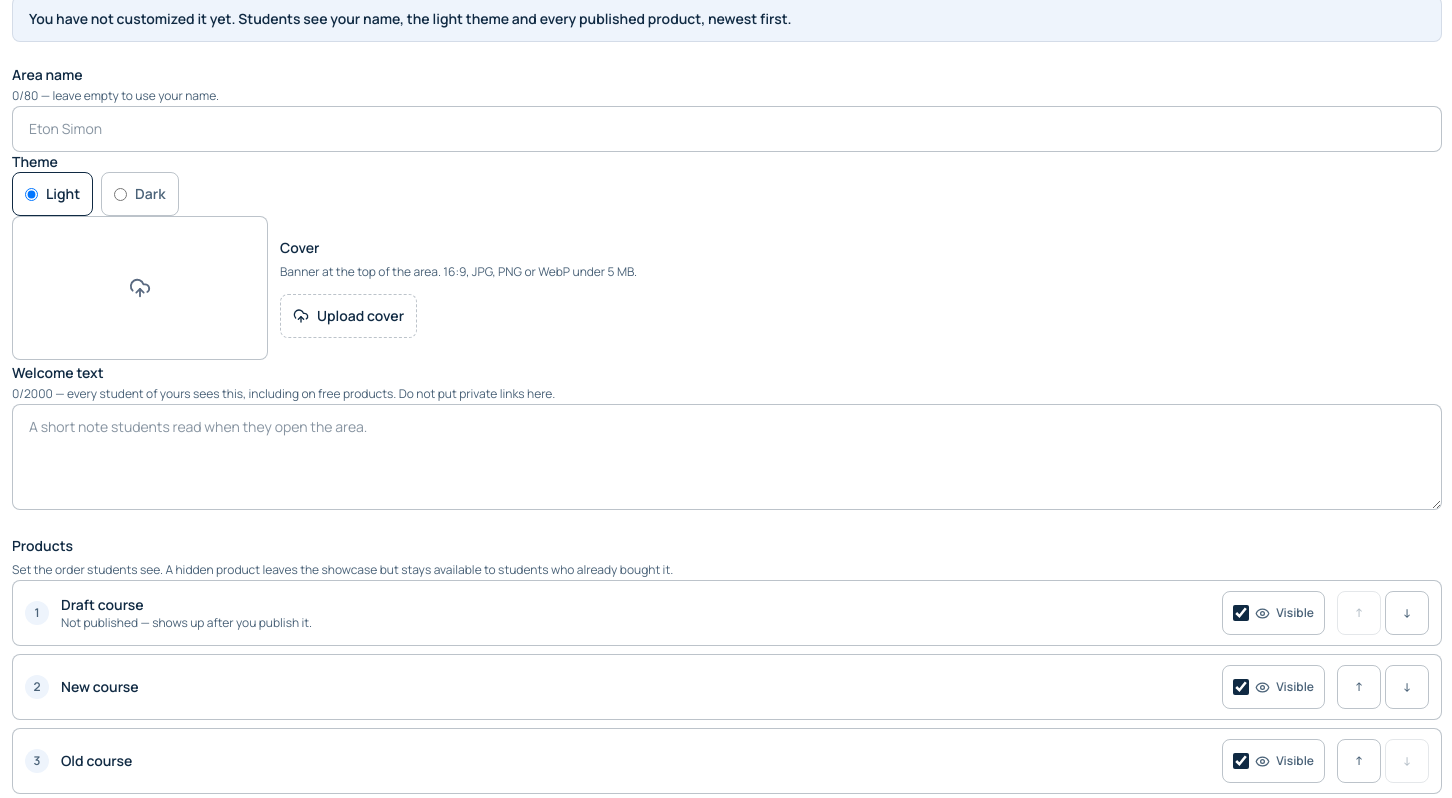
Test: MemberAreaSettingsPanel › salva nome, tema, boas-vindas, a ordem arrumada e quem ficou oculto
Expected: the list is shown, x1=12 y1=580 x2=1442 y2=794
Type "Eton Academy" into the field labelled "Area name" at (727, 129), box x1=12 y1=106 x2=1442 y2=152
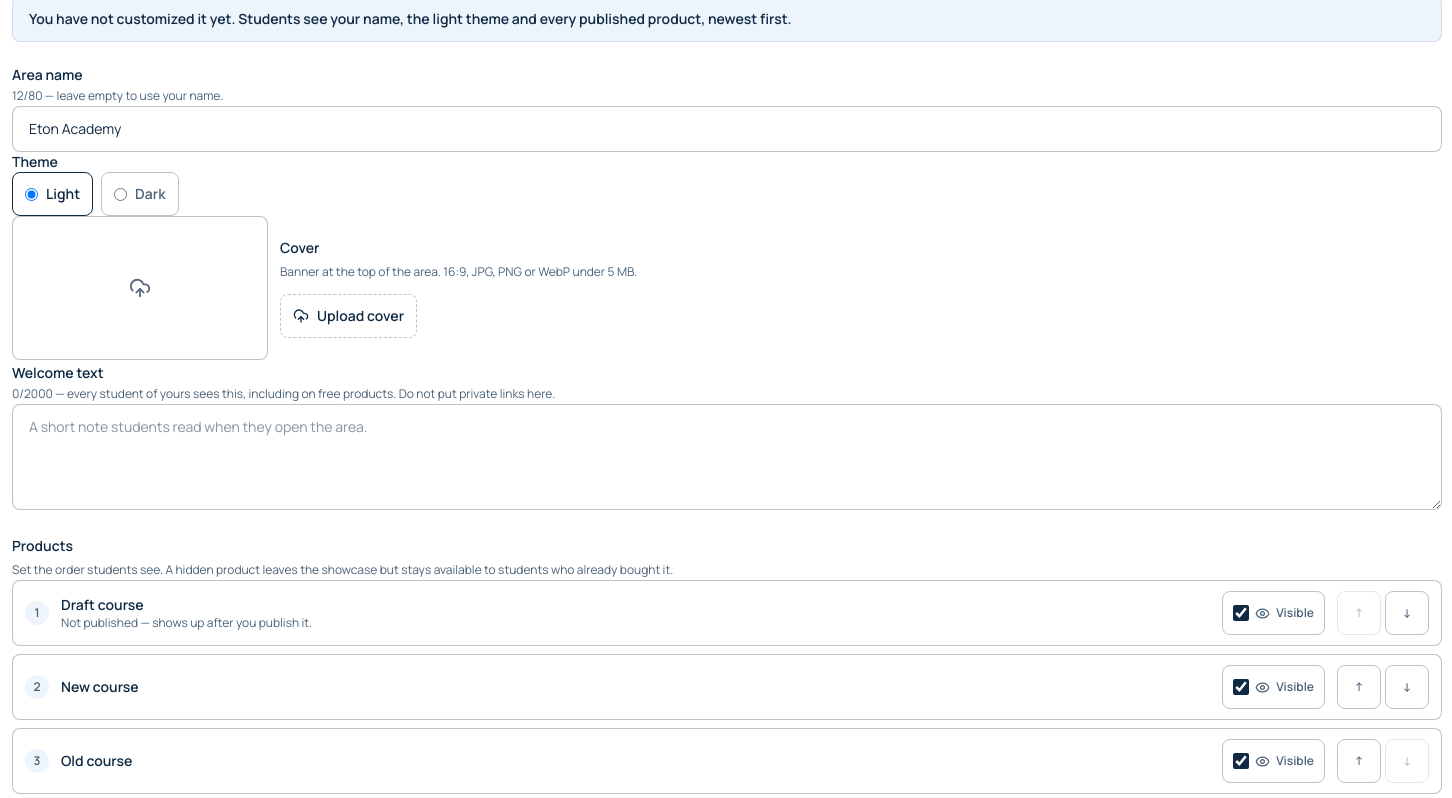
Click the radio button labelled "Dark" at (121, 194), box x1=114 y1=188 x2=127 y2=200
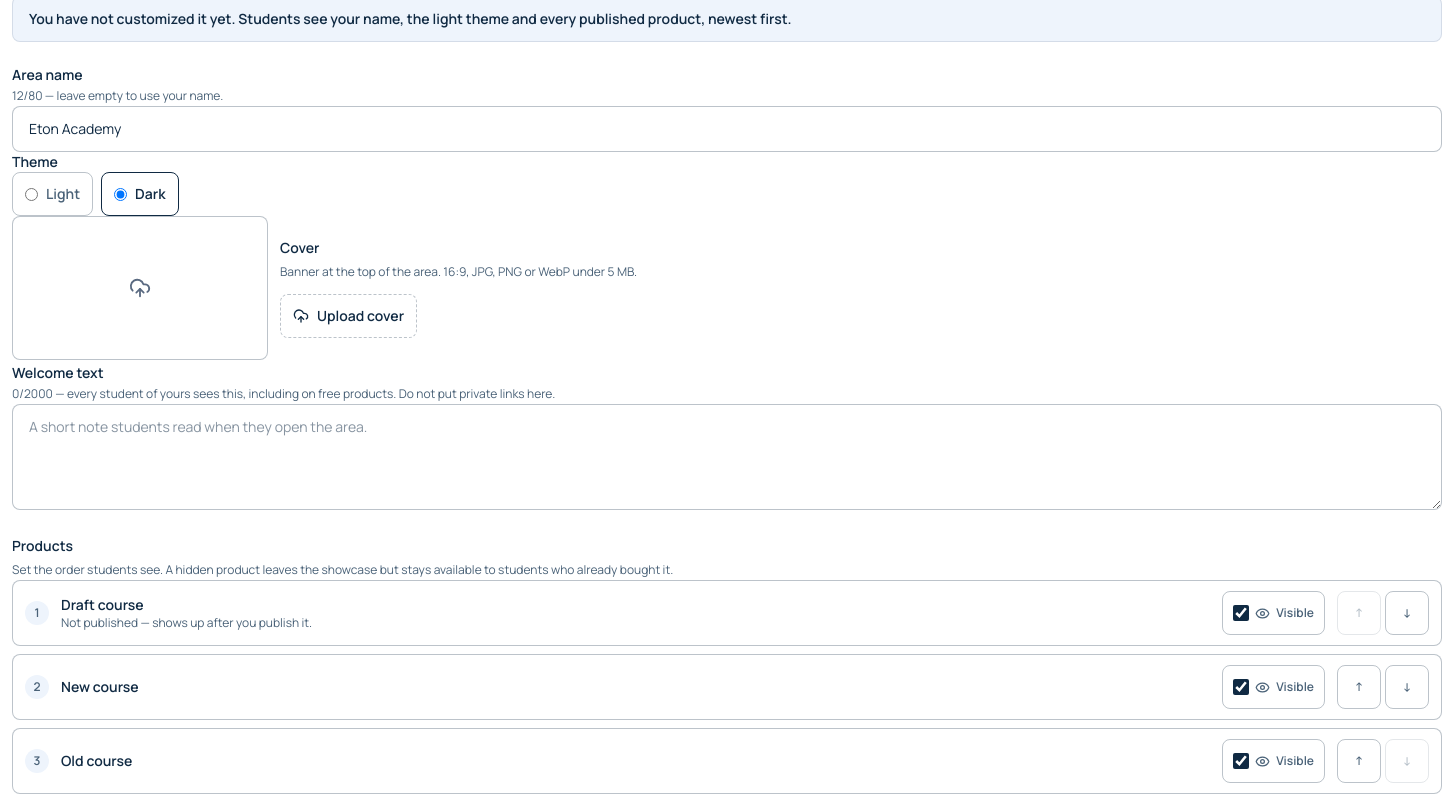
Type "Welcome!" into the text box labelled "Welcome text" at (727, 457), box x1=12 y1=404 x2=1442 y2=510
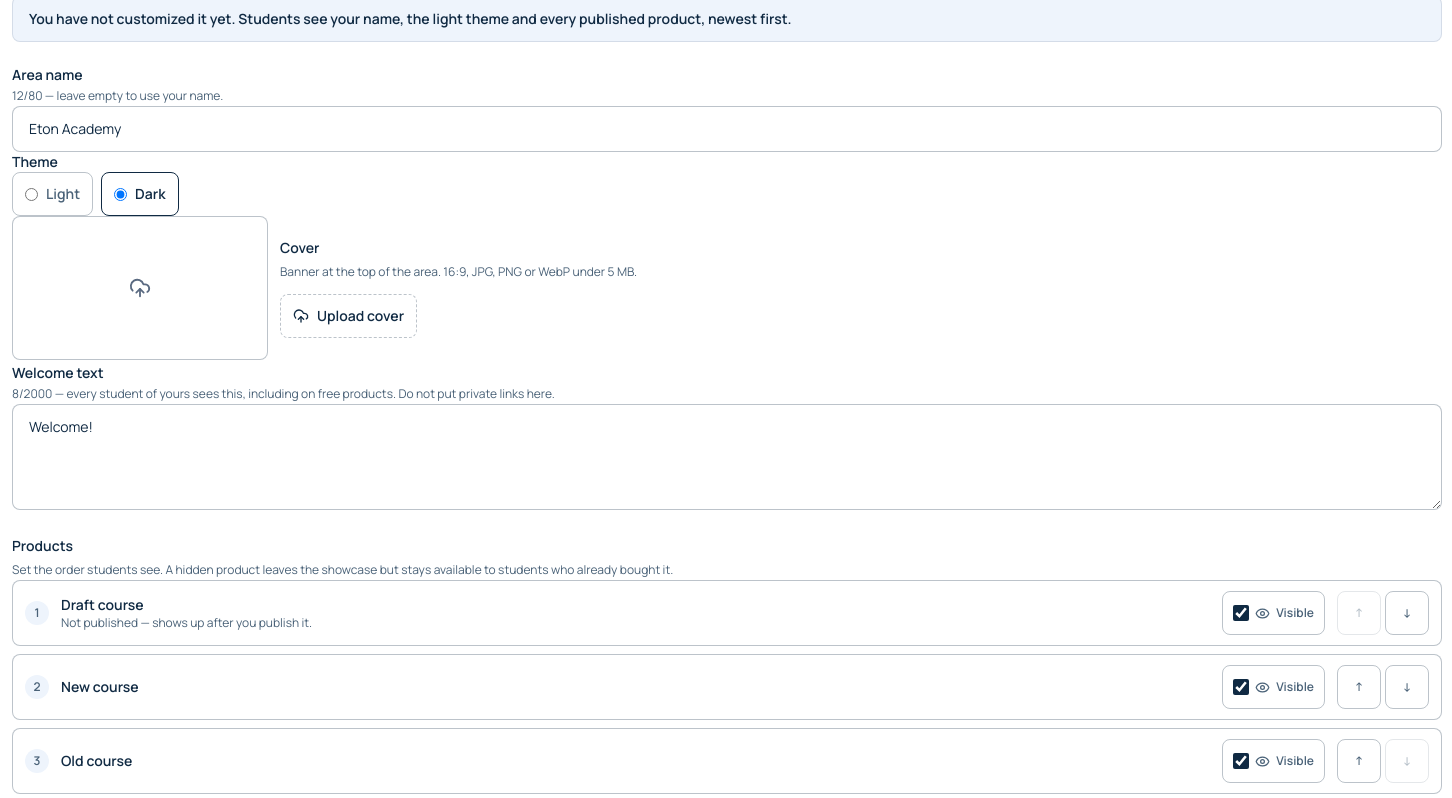
Click the button named "Move Old course up" at (1359, 761), box x1=1337 y1=739 x2=1381 y2=783
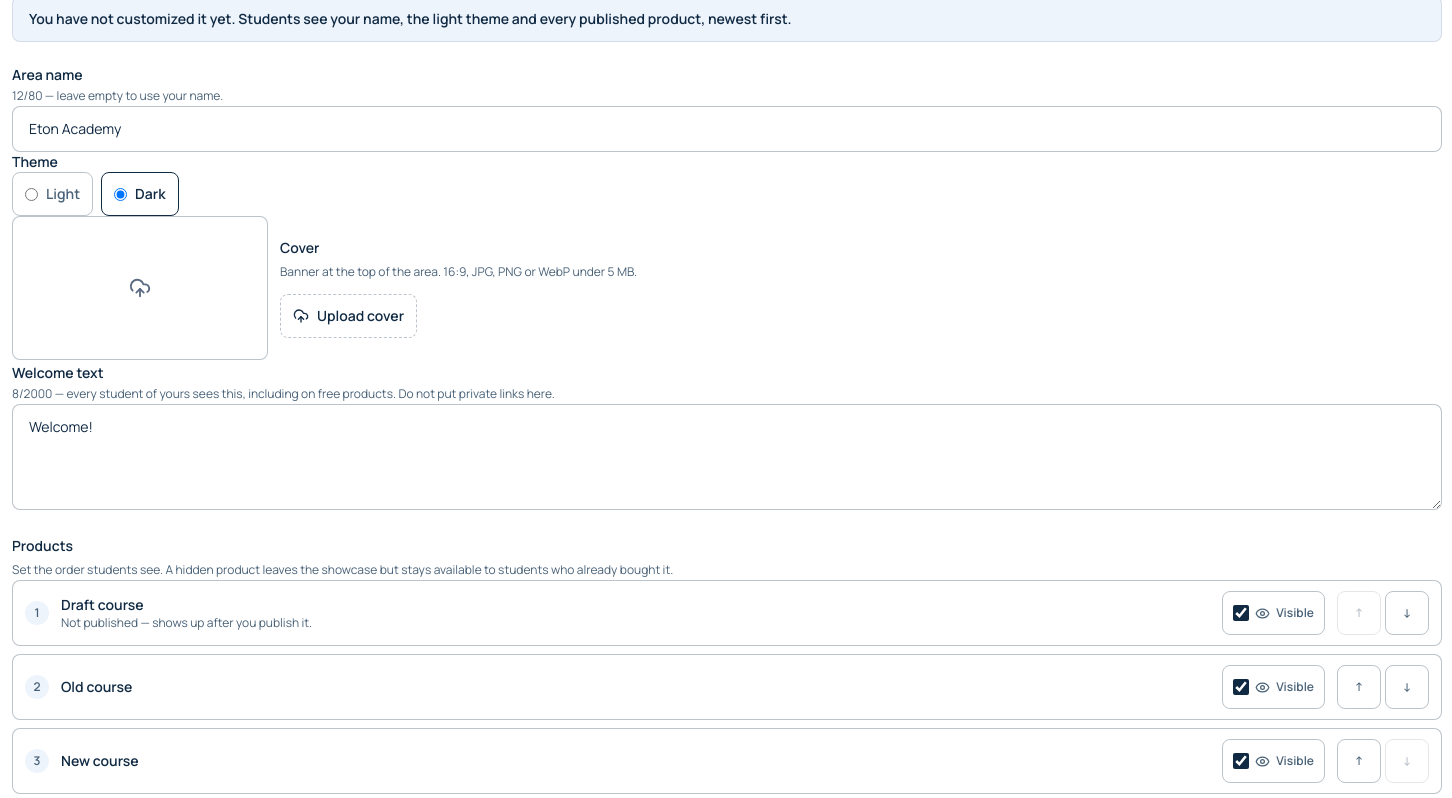
Click the checkbox named "Visible: Draft course" at (1241, 613), box x1=1233 y1=605 x2=1249 y2=621
(page scrolled)
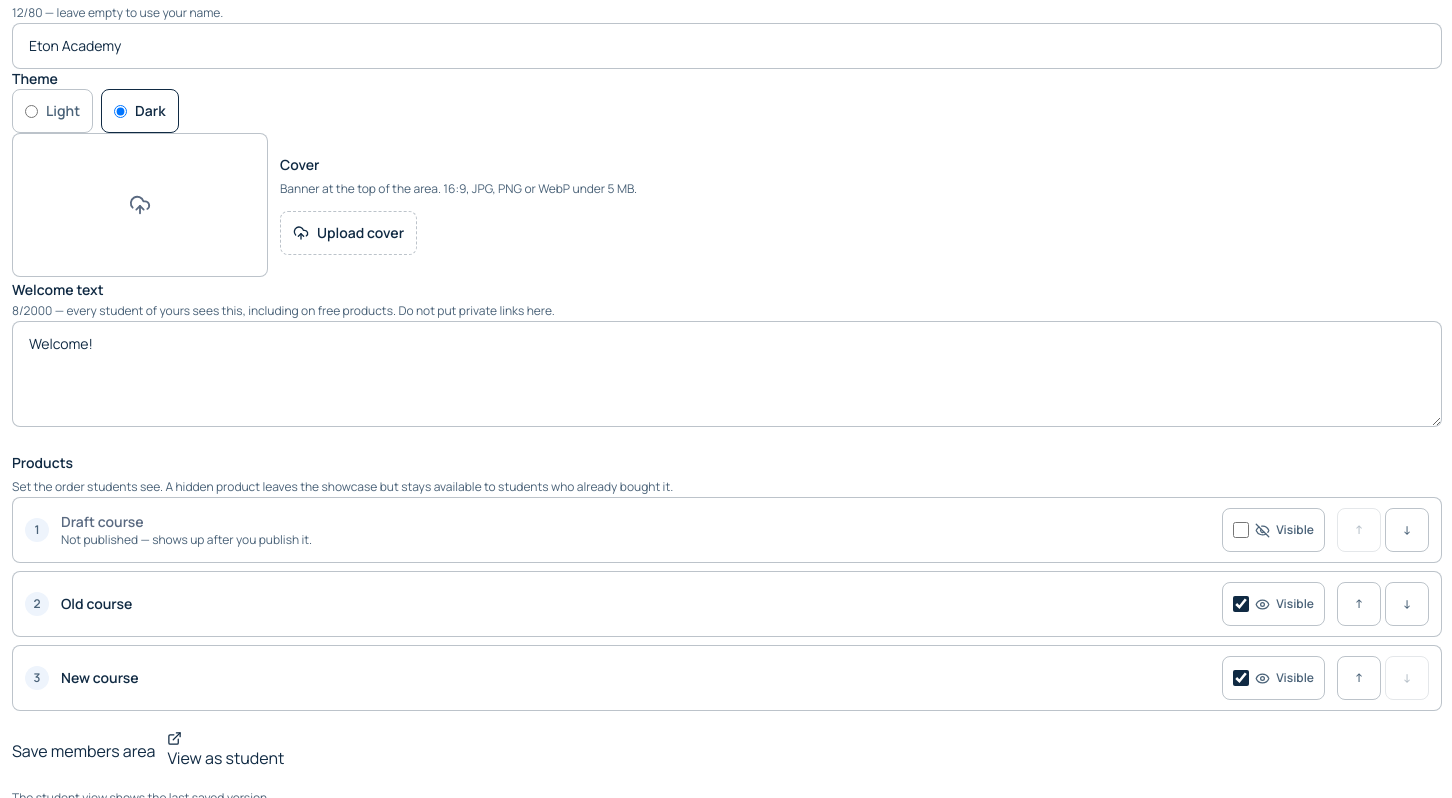
Click the button "Save members area" at (84, 750), box x1=12 y1=738 x2=155 y2=762
(page scrolled)
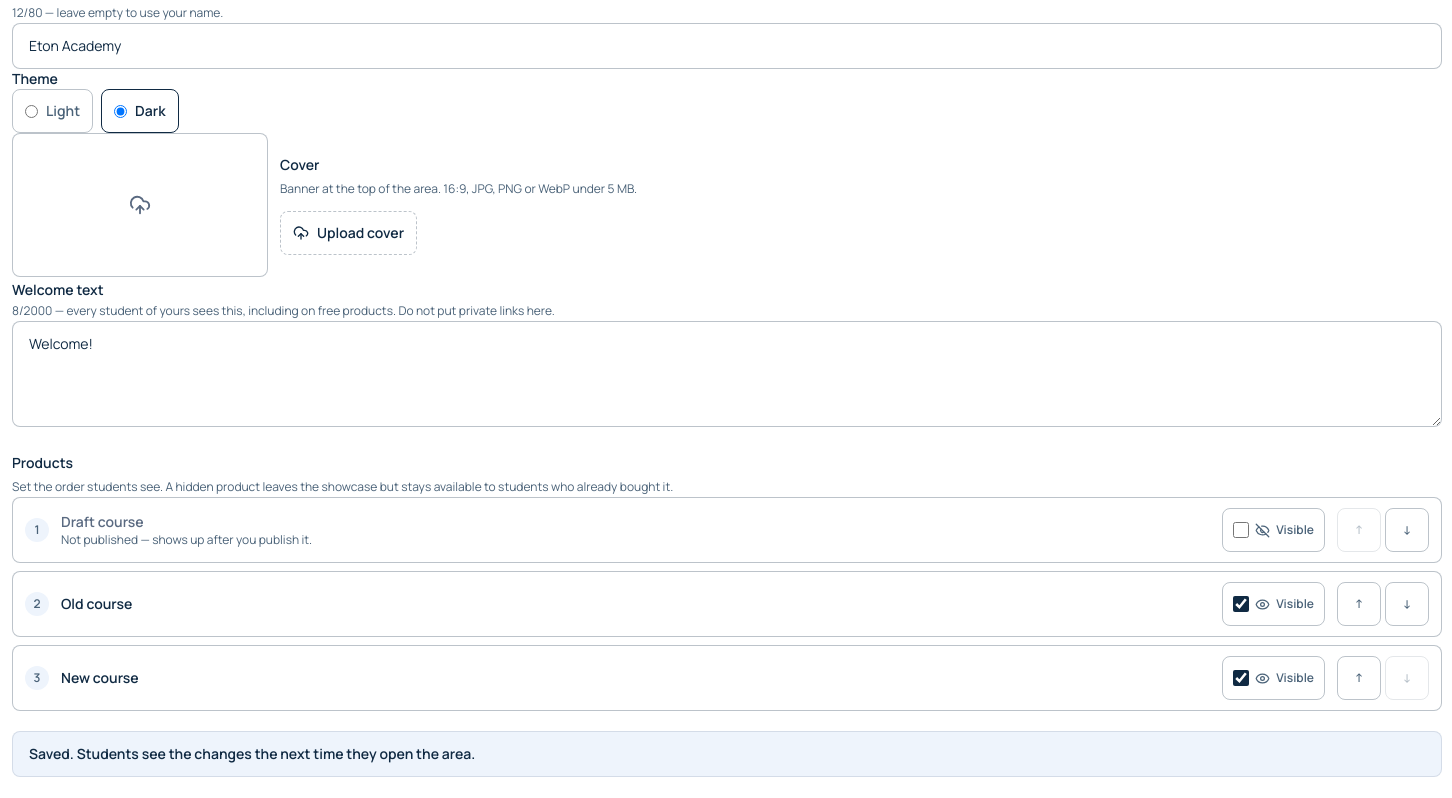
Expected: the text "Saved. Students see the changes the next time they open the area." is shown, x1=12 y1=731 x2=1442 y2=777
